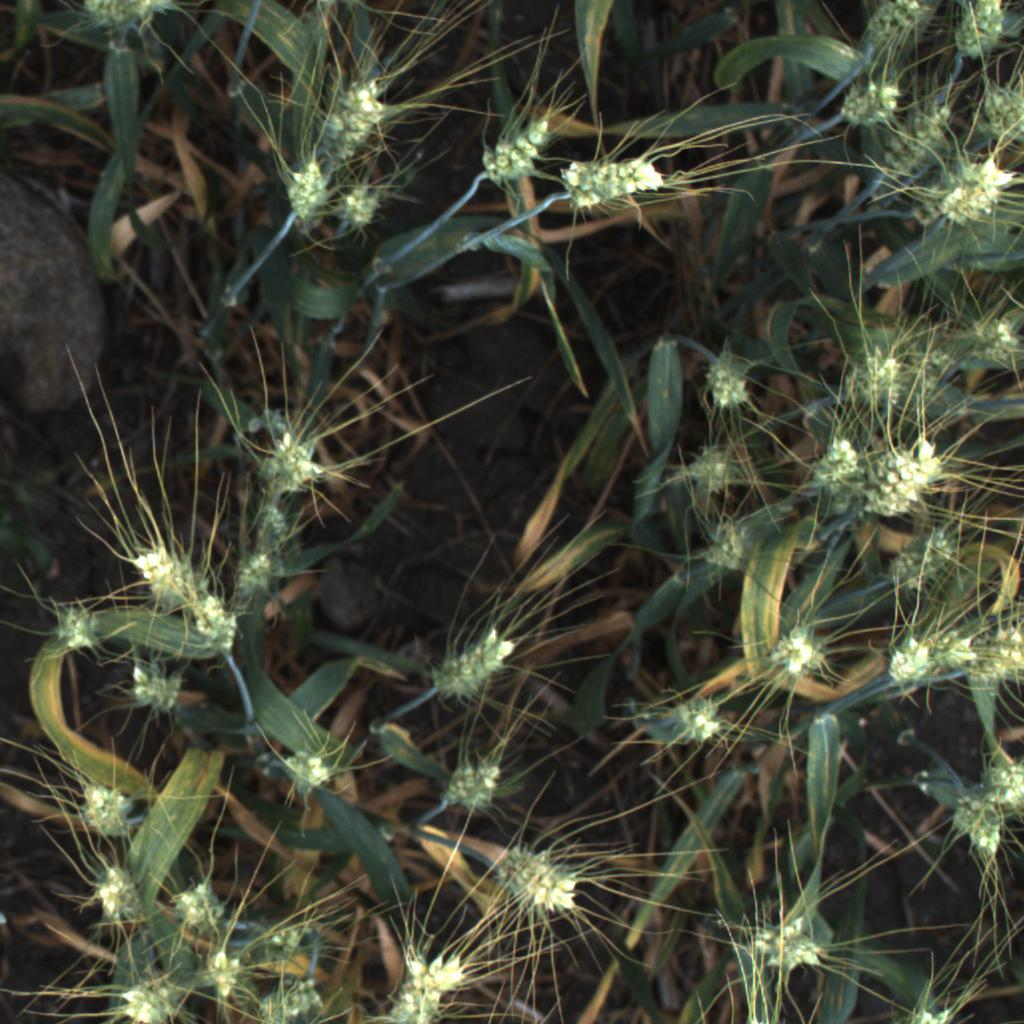0-0: (857, 93, 971, 193), (553, 138, 682, 214), (857, 426, 951, 529), (468, 94, 569, 188), (421, 609, 515, 705), (490, 833, 589, 924), (909, 159, 1016, 242), (627, 683, 738, 762), (838, 0, 958, 69), (721, 903, 827, 978), (372, 944, 470, 1024), (118, 533, 212, 616), (253, 412, 342, 497), (825, 67, 924, 143), (426, 741, 515, 824), (64, 771, 160, 847), (941, 615, 1024, 702), (884, 519, 970, 600), (747, 613, 834, 692), (325, 69, 401, 156), (259, 734, 348, 803), (912, 615, 990, 693), (940, 782, 1009, 867), (693, 345, 769, 421), (837, 336, 919, 405), (262, 156, 335, 231), (686, 516, 763, 584), (183, 586, 248, 665), (40, 584, 107, 660), (250, 967, 339, 1024), (162, 869, 235, 937), (71, 0, 174, 48), (671, 441, 748, 504), (946, 0, 1015, 69), (97, 964, 182, 1020), (954, 753, 1024, 821), (980, 68, 1024, 175), (804, 432, 865, 509), (875, 632, 939, 697), (125, 666, 193, 725), (83, 862, 148, 922), (234, 541, 290, 607), (972, 301, 1024, 368), (341, 182, 405, 235), (196, 944, 255, 997), (897, 988, 969, 1024)
